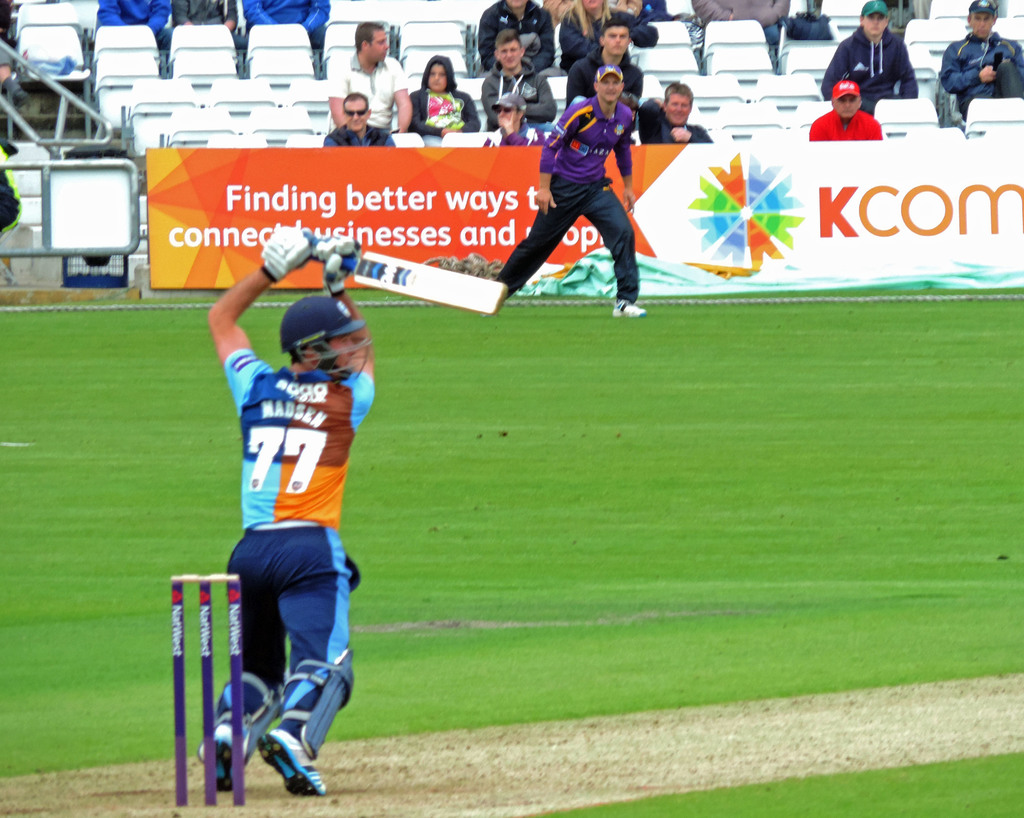Person: (0, 0, 1024, 148)
